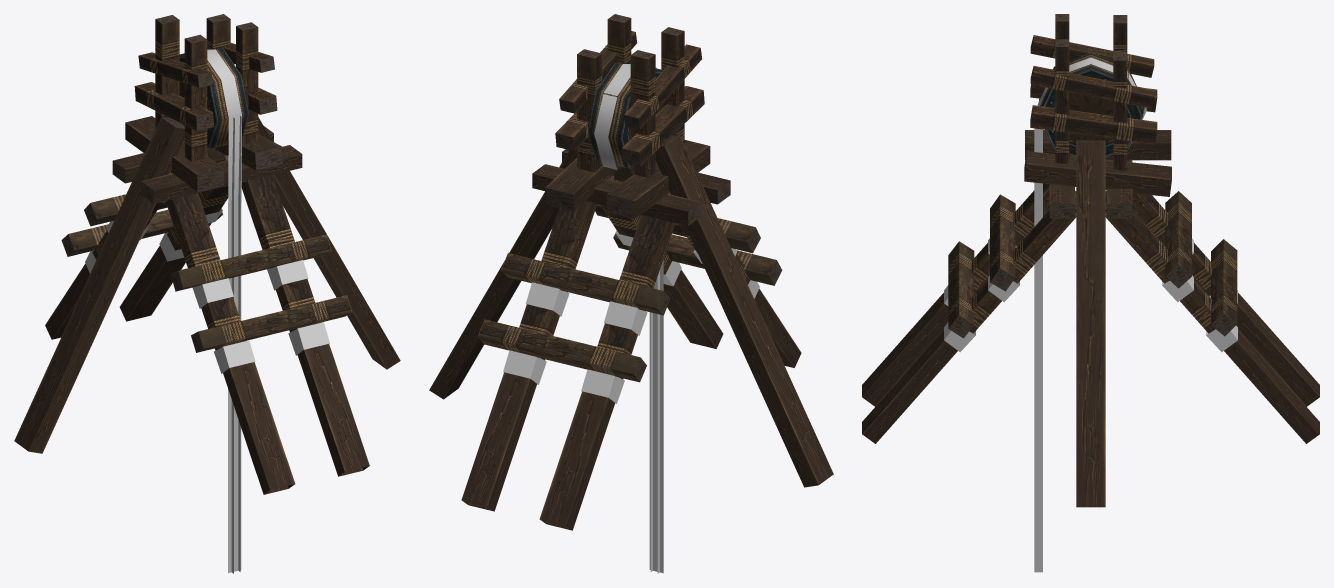
Rendered from A_mutou_018.fbx.
3 views of the same model, side by side, from view 1: azimuth 30°, elevation 25°; view 2: azimuth 150°, elevation 25°; view 3: azimuth 270°, elevation 25° (orthographic). The views are drawn at different scales.
Visible parts, largest first — view 1: pasted__A_mutou_018; view 2: pasted__A_mutou_018; view 3: pasted__A_mutou_018.
Boxes of the visible parts, box(x1,y1,x2,y2) form: pasted__A_mutou_018: box(14, 14, 400, 573); pasted__A_mutou_018: box(429, 14, 833, 573); pasted__A_mutou_018: box(862, 14, 1319, 572).
Bounding box in the file's own units: 529 × 721 × 555.
